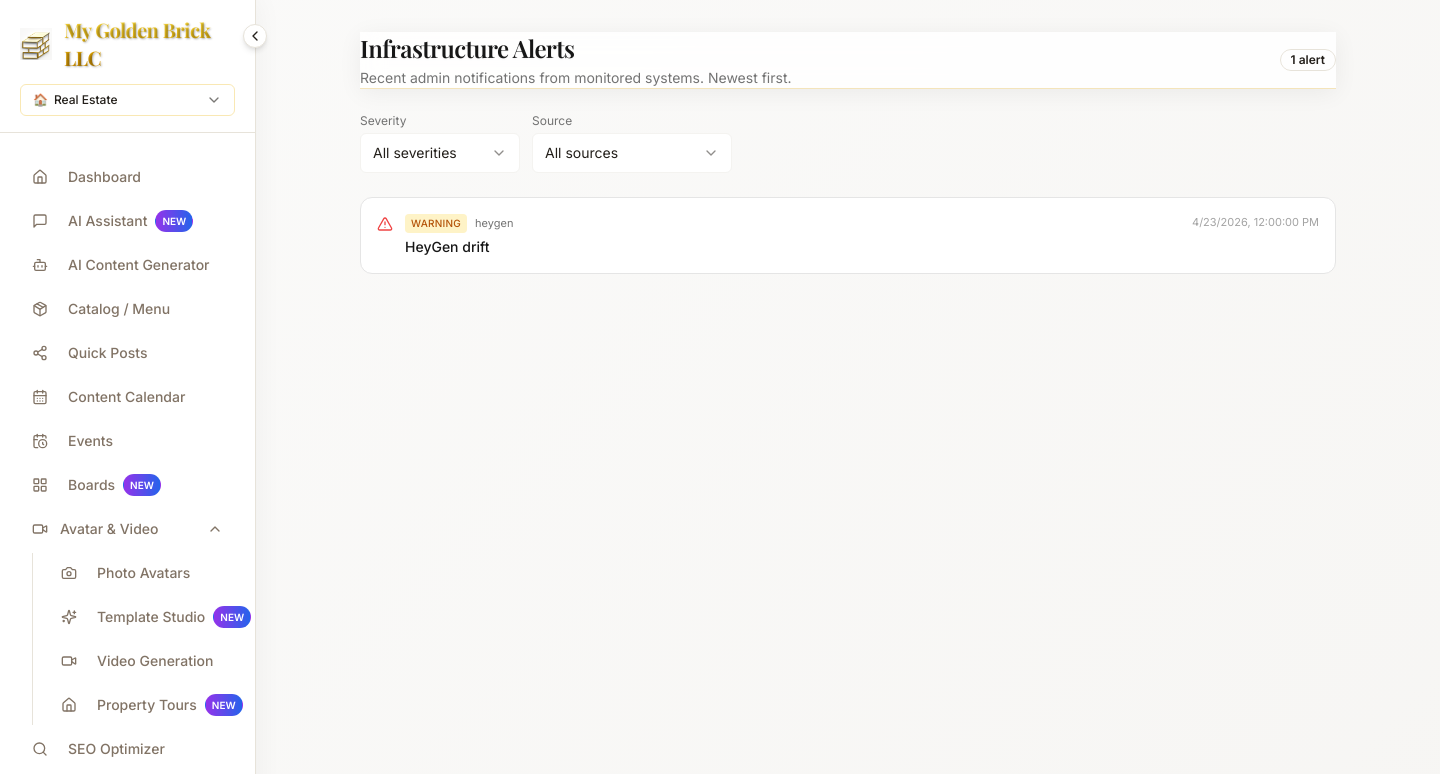
Test: AdminAlertsPage › renders the empty state when no alerts match the filters
Expected: the list item with test id "row-admin-alert-a1" is shown, [360, 197, 1336, 274]
Press Enter in the dropdown with test id "select-admin-alerts-severity", box [360, 133, 520, 173]
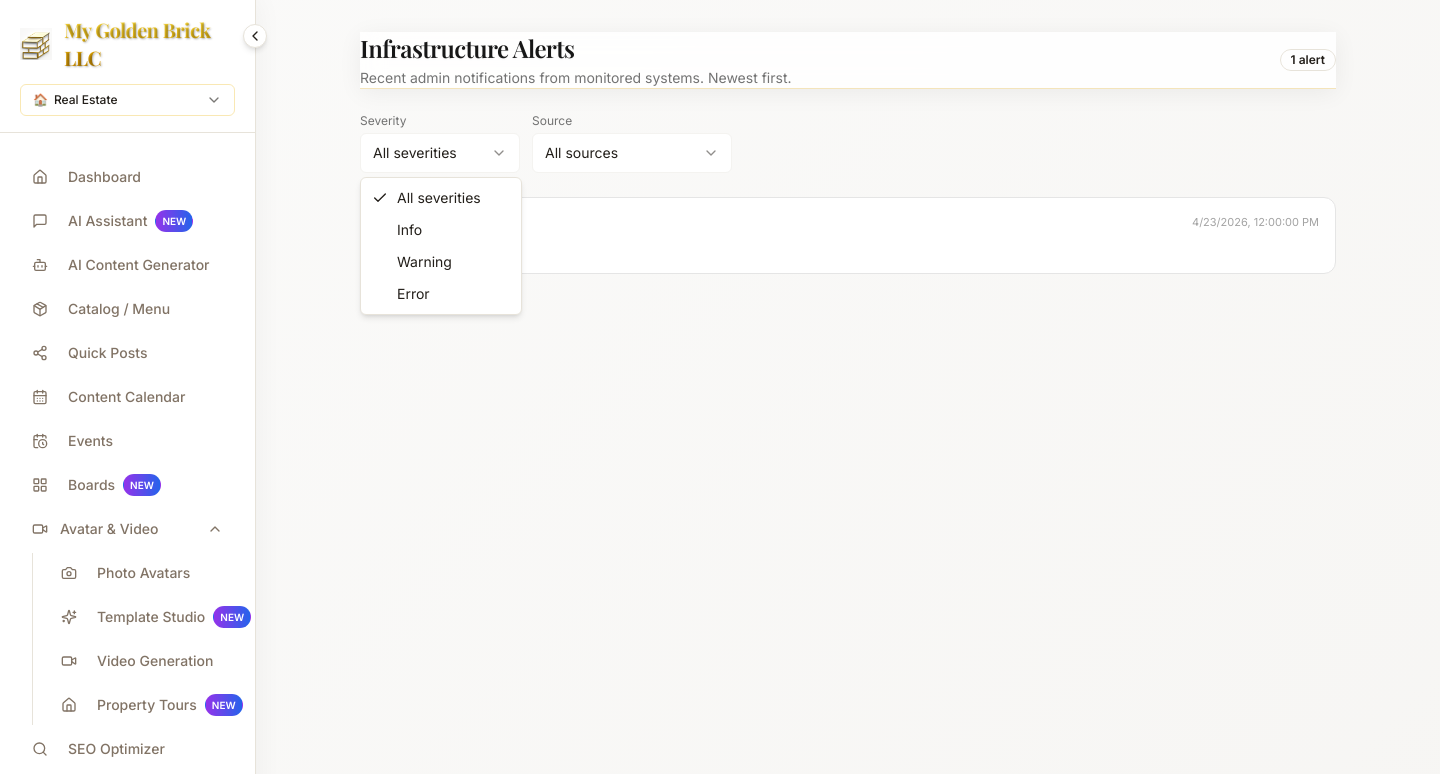
Click the option with test id "option-severity-error" at (413, 294), box [397, 285, 430, 302]
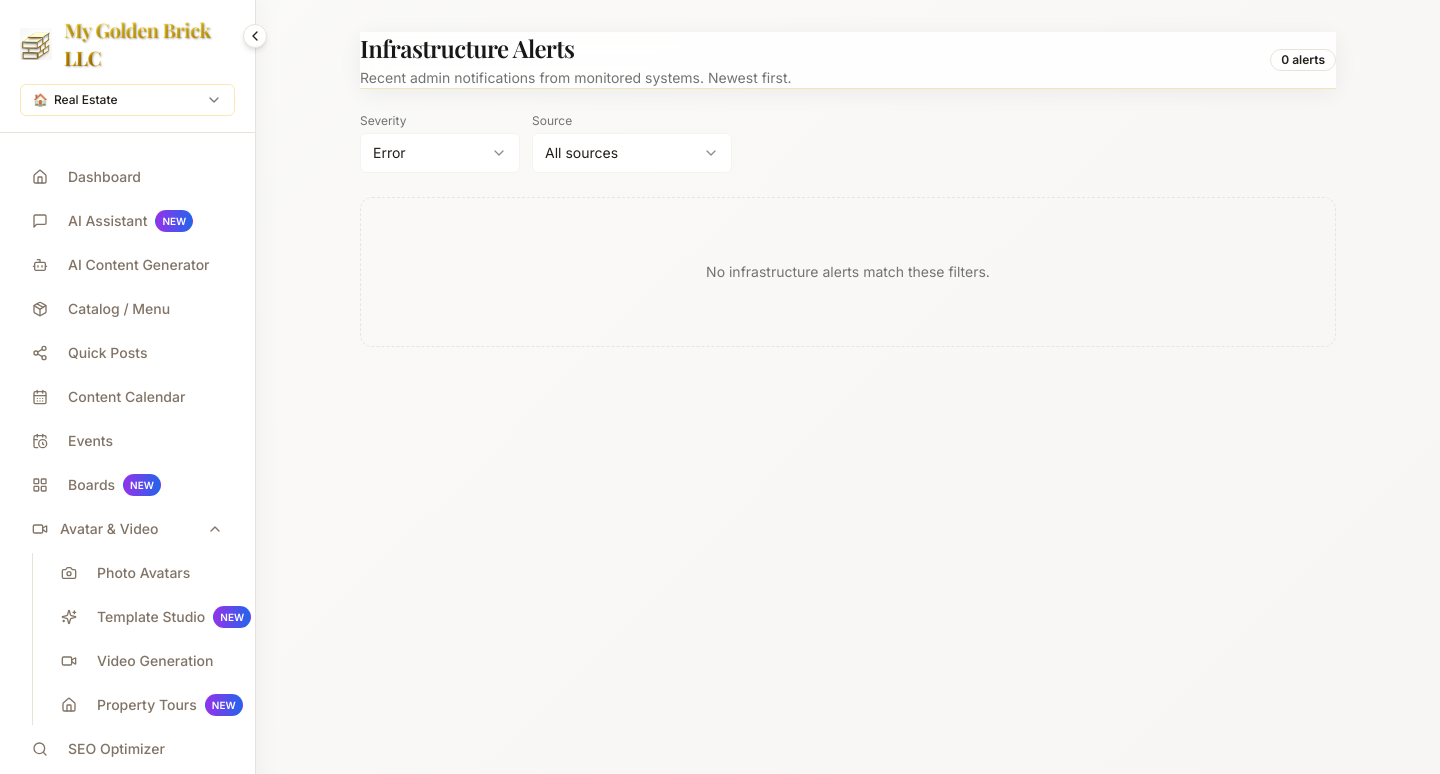
Now the text "No infrastructure alerts match these filters." is shown, box [360, 197, 1336, 347]
Now the list with test id "list-admin-alerts" is gone
Now the text with test id "badge-admin-alerts-count" shows "0", box [1281, 52, 1289, 67]
